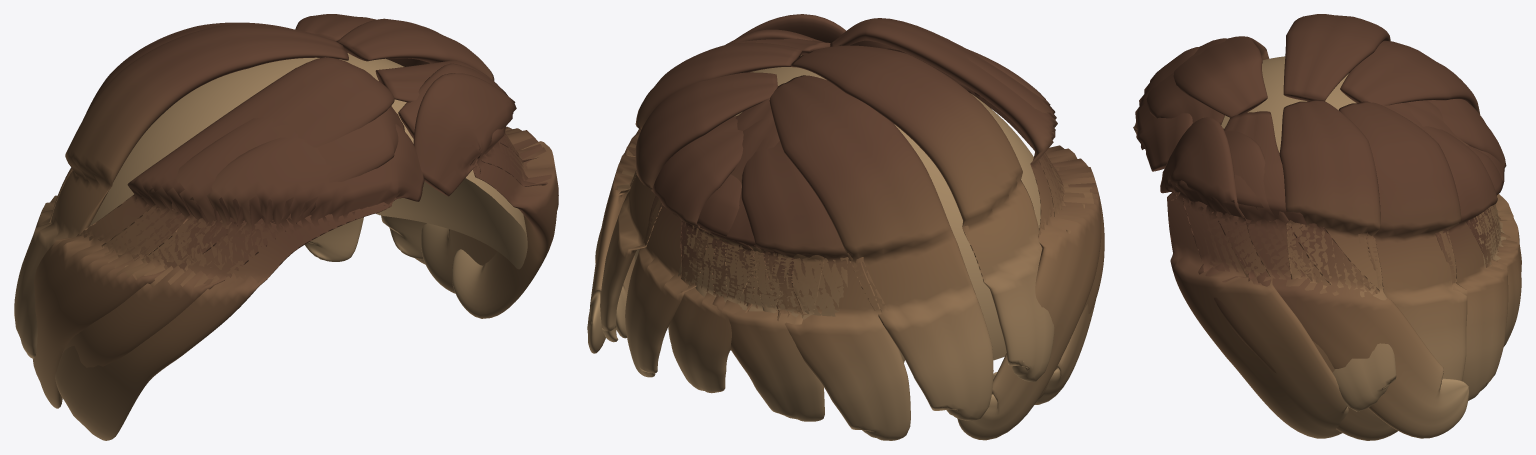
The model's file is Masculine-flow-headband261-hair-ombre.glb.
The picture shows the model from 3 angles, left to right: view 1: azimuth 30°, elevation 25°; view 2: azimuth 150°, elevation 25°; view 3: azimuth 270°, elevation 25°; orthographic projection. The views are drawn at different scales.
Parts seen in each view (by area): view 1: 226 hair / Hair260 / layered flow; view 2: 226 hair / Hair260 / layered flow; view 3: 226 hair / Hair260 / layered flow.
Boxes of the visible parts, bbox=[...] form: 226 hair / Hair260 / layered flow: bbox=[14, 14, 558, 440]; 226 hair / Hair260 / layered flow: bbox=[587, 14, 1104, 440]; 226 hair / Hair260 / layered flow: bbox=[1133, 14, 1521, 440].
Bounding box in the file's own units: 1.12 × 0.7722 × 0.8635.
